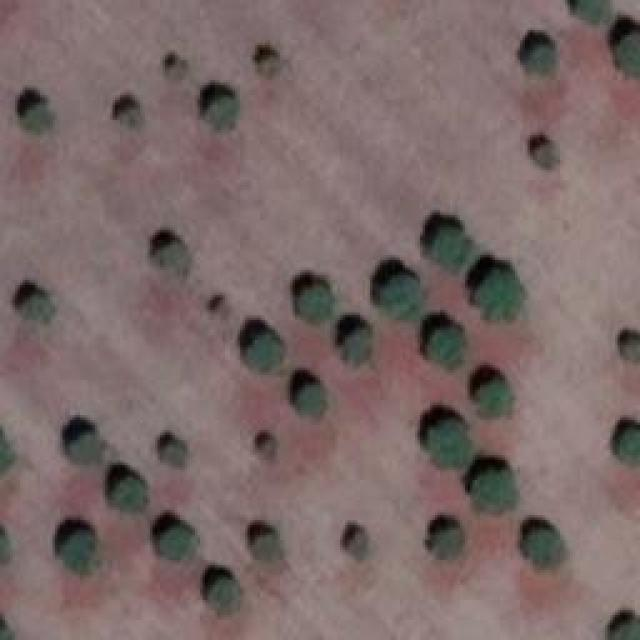Tree: (473, 270, 523, 320), (425, 420, 470, 465), (380, 275, 420, 323), (470, 470, 513, 513), (60, 533, 98, 578), (430, 228, 470, 268), (110, 475, 145, 515), (525, 528, 560, 568), (245, 332, 280, 370), (428, 327, 463, 365), (475, 380, 508, 418), (295, 285, 330, 320), (160, 530, 198, 560), (210, 577, 238, 615), (68, 433, 101, 463), (158, 243, 191, 273), (617, 32, 640, 75), (295, 385, 323, 418), (207, 95, 235, 128), (23, 103, 53, 133), (525, 45, 555, 75), (343, 330, 368, 365), (578, 0, 613, 25), (253, 532, 283, 560), (433, 530, 466, 555), (22, 292, 50, 320), (620, 430, 640, 463), (612, 620, 640, 640), (163, 443, 186, 466), (533, 145, 556, 168), (347, 533, 365, 558), (118, 108, 143, 123), (260, 55, 278, 73), (170, 60, 185, 78)
